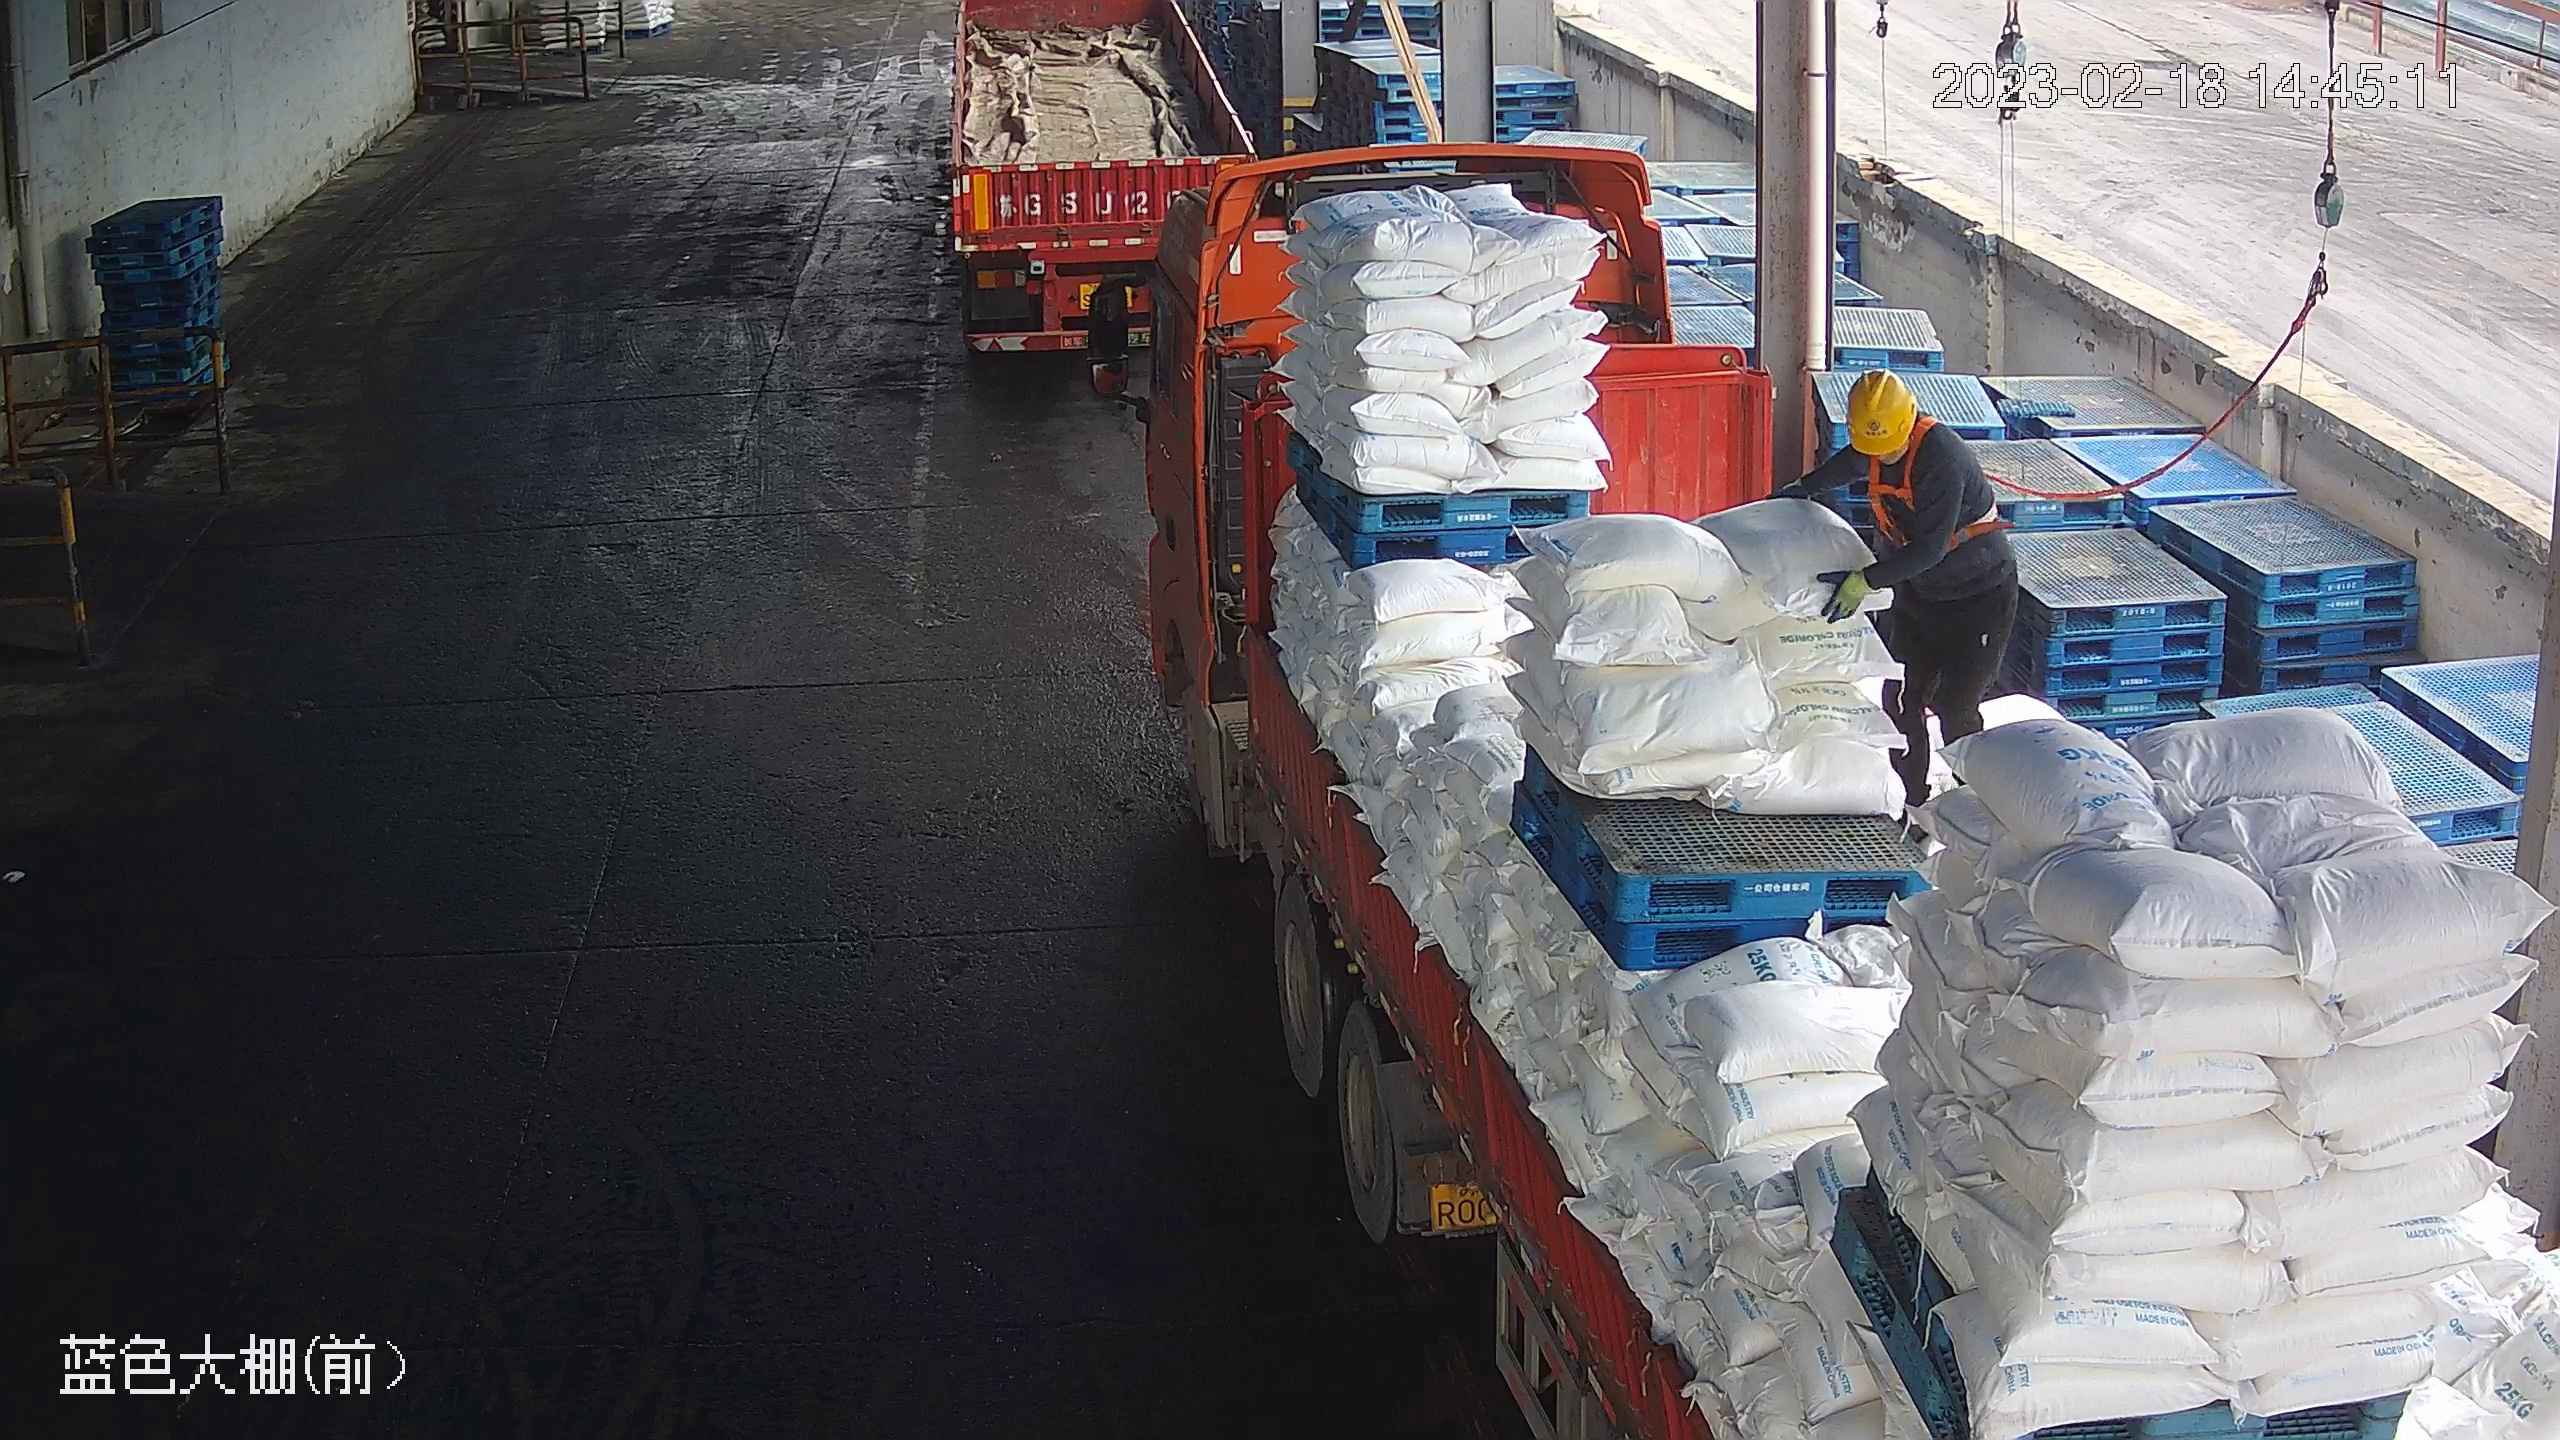belt: (1868, 414, 2016, 552)
head: (1831, 368, 1973, 499), (1842, 366, 1923, 457)
helmet: (1843, 366, 1919, 455)
people: (1778, 368, 2022, 841)
truck: (1087, 141, 2547, 1436), (949, 1, 1258, 353)
